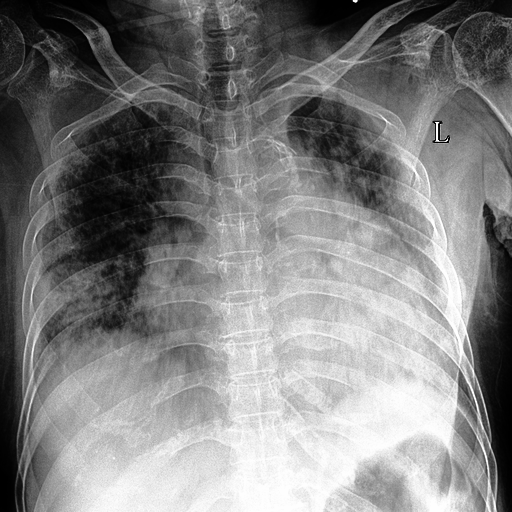Aortic enlargement: (294, 211, 452, 389), (43, 241, 128, 348)
ILD: (270, 68, 466, 401), (29, 84, 179, 382)
Lung Opacity: (250, 132, 312, 209)
Nodule/Mass: (119, 198, 455, 418)
Pleural effusion: (406, 312, 480, 401)
Pleural thickening: (270, 68, 466, 401), (29, 84, 179, 382), (312, 98, 423, 226)
